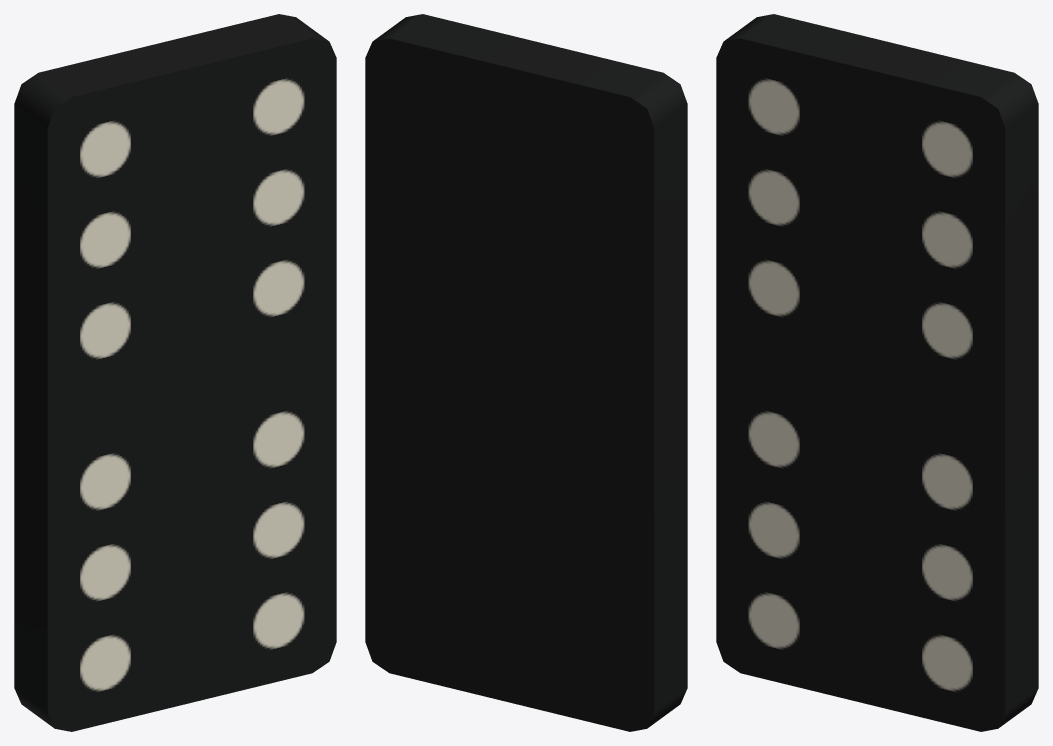
The picture shows the model from 3 angles, left to right: view 1: azimuth 30°, elevation 25°; view 2: azimuth 150°, elevation 25°; view 3: azimuth 330°, elevation 25°; orthographic projection.
Parts seen in each view (by area): view 1: domino_low_66; view 2: domino_low_66; view 3: domino_low_66.
Boxes of the visible parts, x1,y1,x2,y2 form: domino_low_66: (14,14,336,731); domino_low_66: (365,14,687,731); domino_low_66: (716,14,1038,731).
Bounding box in the file's own units: 2 × 4.2 × 0.4.
